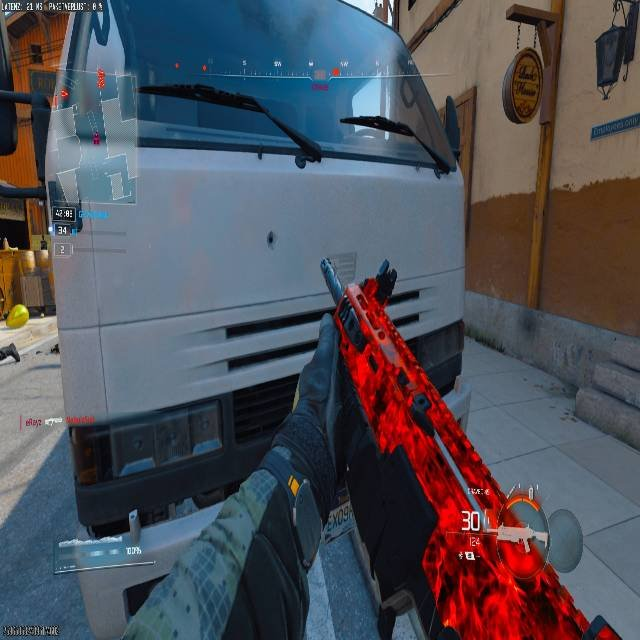head: (496, 499, 550, 576)
